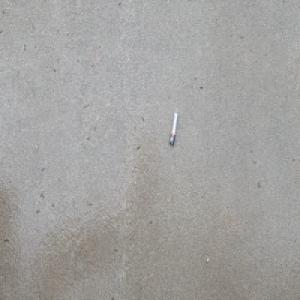Battery: (168, 113, 177, 147)
